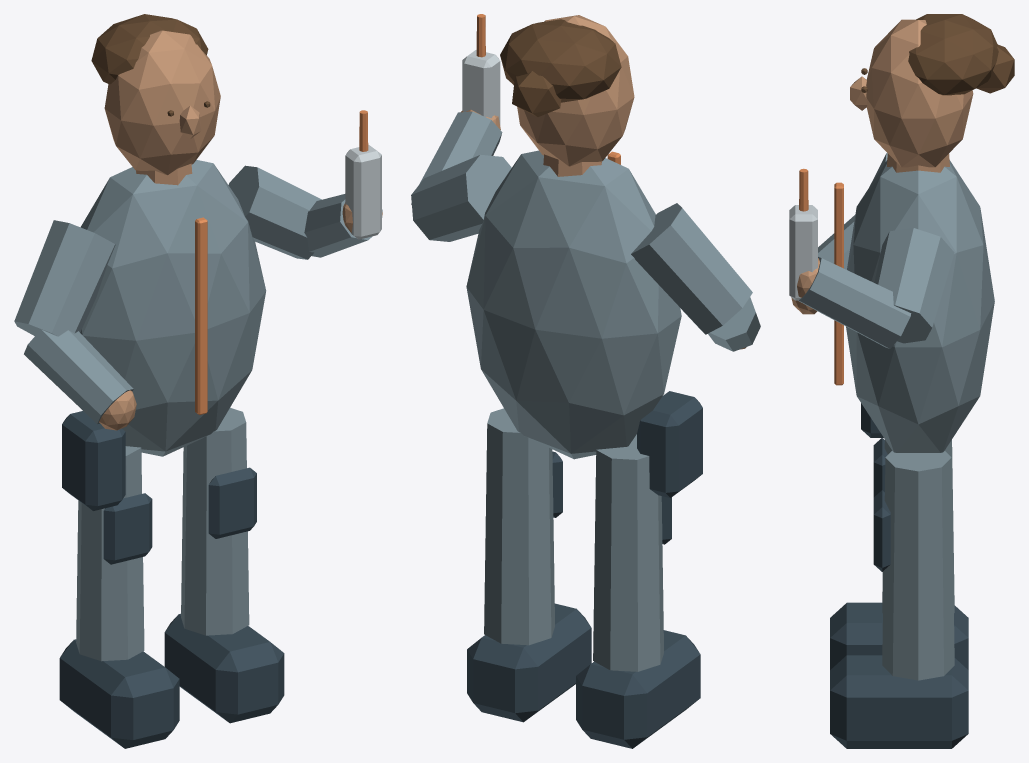
The picture shows the model from 3 angles, left to right: view 1: azimuth 30°, elevation 25°; view 2: azimuth 150°, elevation 25°; view 3: azimuth 270°, elevation 25°; orthographic projection. The views are drawn at different scales.
Parts seen in each view (by area): view 1: RI-007 Ship systems engineer batched; view 2: RI-007 Ship systems engineer batched; view 3: RI-007 Ship systems engineer batched.
Part boxes in pixels (x1=…): RI-007 Ship systems engineer batched: x1=14, y1=14, x2=382, y2=748; RI-007 Ship systems engineer batched: x1=411, y1=14, x2=760, y2=748; RI-007 Ship systems engineer batched: x1=789, y1=14, x2=1014, y2=748.
Size of the model in its own units: 0.7995 by 1.6 by 0.471.
